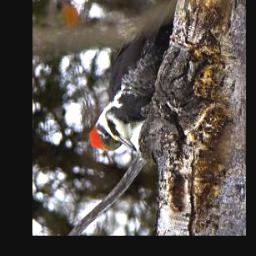Woodpecker: (85, 14, 172, 155)
